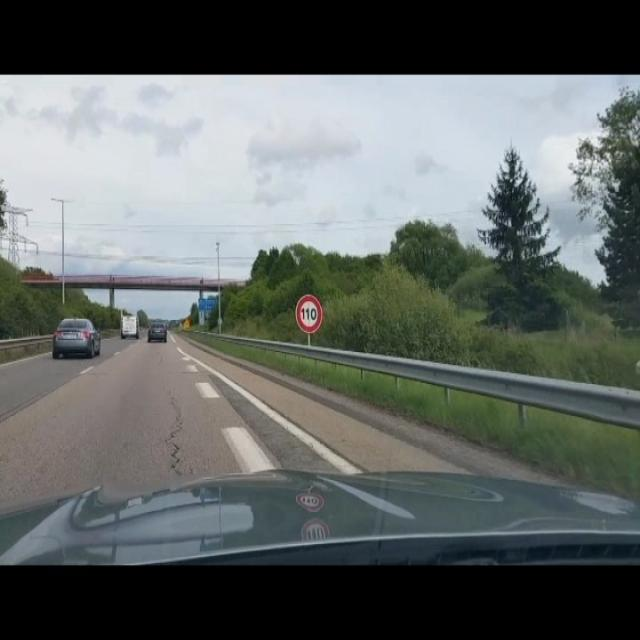speed_110: (296, 293, 324, 334)
